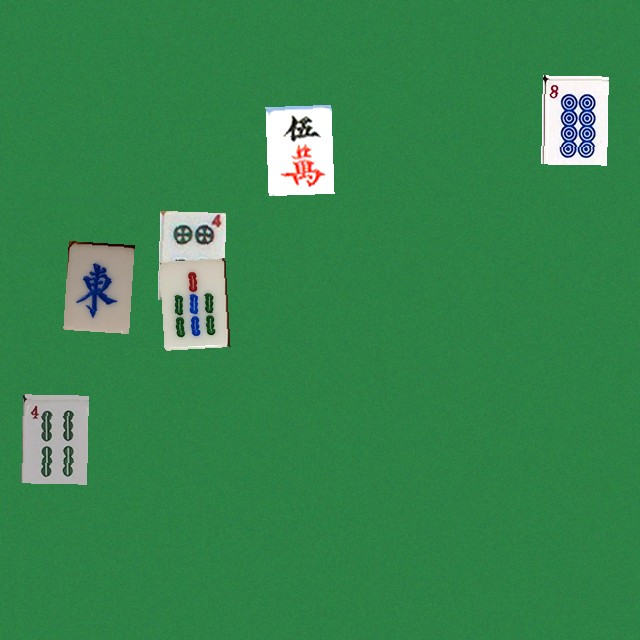tile: (265, 104, 331, 193), (157, 210, 223, 299), (21, 394, 87, 483), (541, 75, 607, 164), (159, 258, 225, 347), (63, 241, 129, 330)
